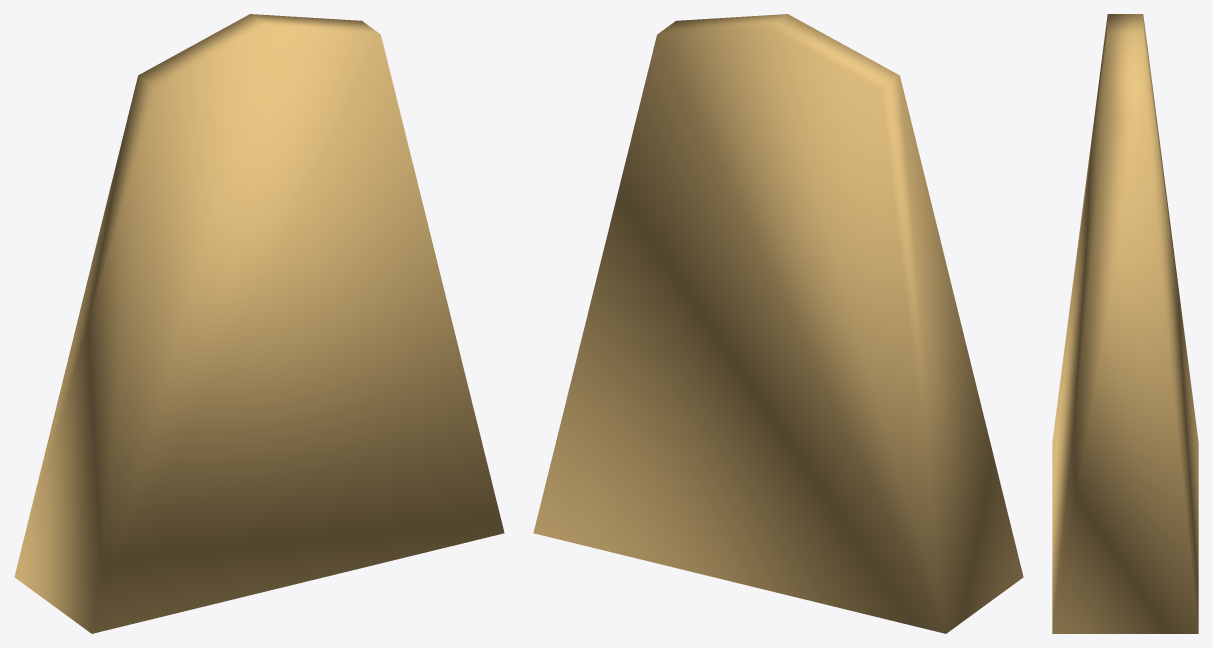
File: ShogiPiece.fbx
The picture shows the model from 3 angles, left to right: view 1: azimuth 30°, elevation 25°; view 2: azimuth 150°, elevation 25°; view 3: azimuth 270°, elevation 25°; orthographic projection. The views are drawn at different scales.
Parts seen in each view (by area): view 1: ShogiPiece; view 2: ShogiPiece; view 3: ShogiPiece.
Boxes of the visible parts, box(x1,y1,x2,y2) form: ShogiPiece: box(14, 14, 504, 633); ShogiPiece: box(533, 14, 1023, 633); ShogiPiece: box(1052, 14, 1198, 633).
Size of the model in its own units: 2.53 by 3.13 by 0.8224.
